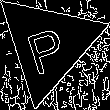P_N: (24, 15, 73, 75)
